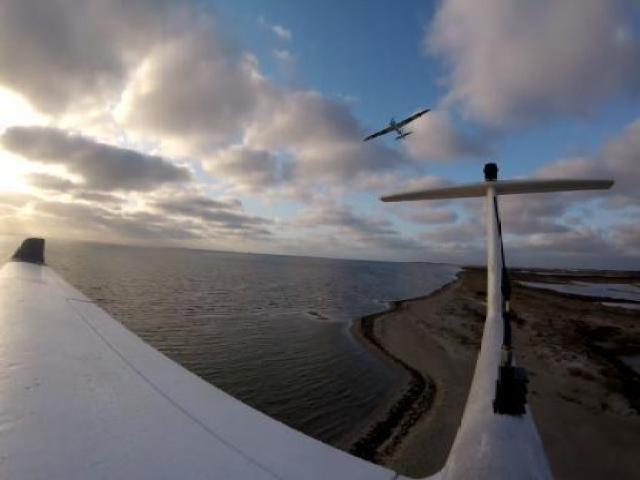uav: (358, 100, 438, 149)
